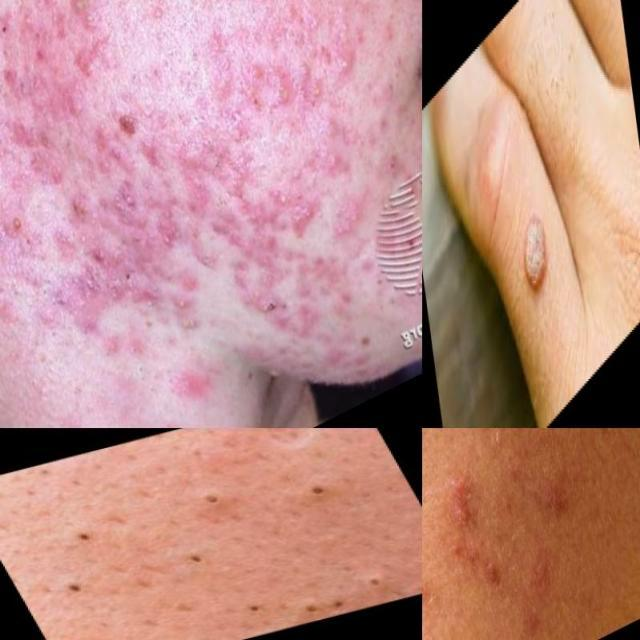Pimples: (17, 502, 140, 572), (280, 566, 398, 623), (218, 428, 354, 469), (272, 470, 354, 521), (51, 559, 119, 615), (100, 168, 148, 232), (92, 230, 146, 286), (436, 484, 486, 544), (161, 534, 228, 578), (94, 270, 144, 322), (274, 196, 318, 247), (54, 190, 96, 239), (230, 595, 278, 636), (266, 69, 302, 120), (305, 145, 344, 189), (328, 202, 366, 244), (147, 200, 180, 248), (50, 0, 97, 32), (194, 488, 234, 514)
